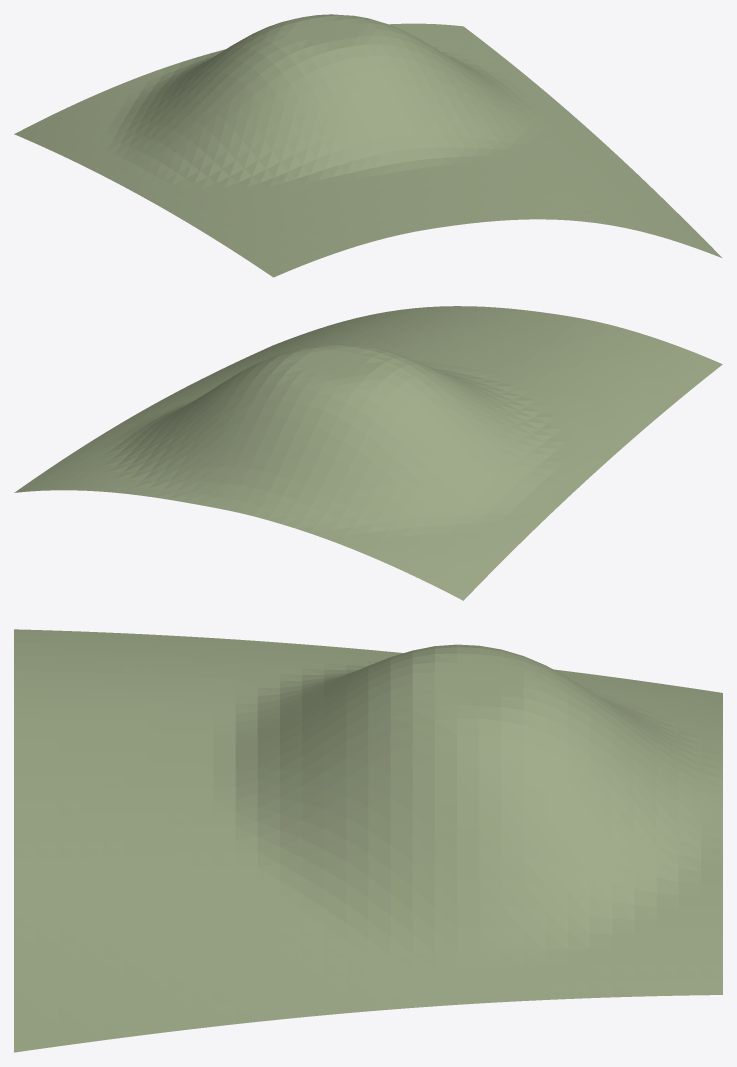
The model's file is expanse-14-5.glb.
3 renders of one model, top to bottom at view 1: azimuth 30°, elevation 25°; view 2: azimuth 150°, elevation 25°; view 3: azimuth 270°, elevation 25°, orthographic. The views are drawn at different scales.
Visible parts, largest first — view 1: expanse-14-5; view 2: expanse-14-5; view 3: expanse-14-5.
Part boxes in pixels (x1,y1,x2,y2): expanse-14-5: (14, 14, 721, 277); expanse-14-5: (14, 306, 722, 600); expanse-14-5: (14, 629, 722, 1052).
Size of the model in its own units: 256 by 88.39 by 256.
